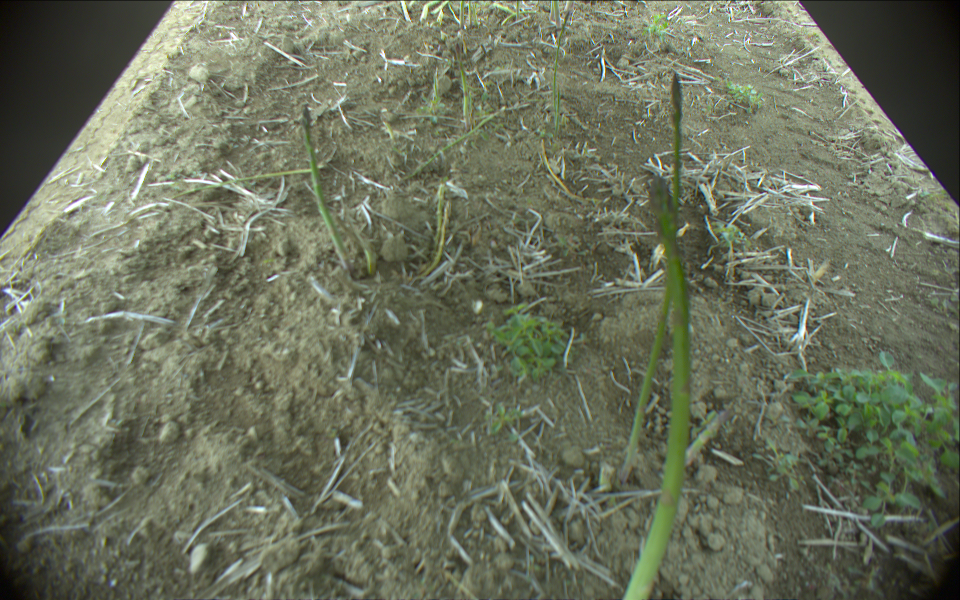aspa: (621, 179, 695, 599), (612, 72, 684, 482), (299, 106, 352, 275), (405, 105, 509, 176), (163, 162, 328, 202), (552, 11, 573, 129), (420, 203, 453, 277), (348, 219, 378, 279), (454, 47, 472, 129), (431, 182, 447, 255), (500, 7, 538, 26), (550, 1, 568, 27), (446, 2, 464, 27), (420, 1, 441, 22), (493, 1, 518, 18), (431, 1, 449, 24), (465, 1, 479, 27), (398, 1, 413, 21), (458, 1, 466, 28), (515, 1, 526, 20)
